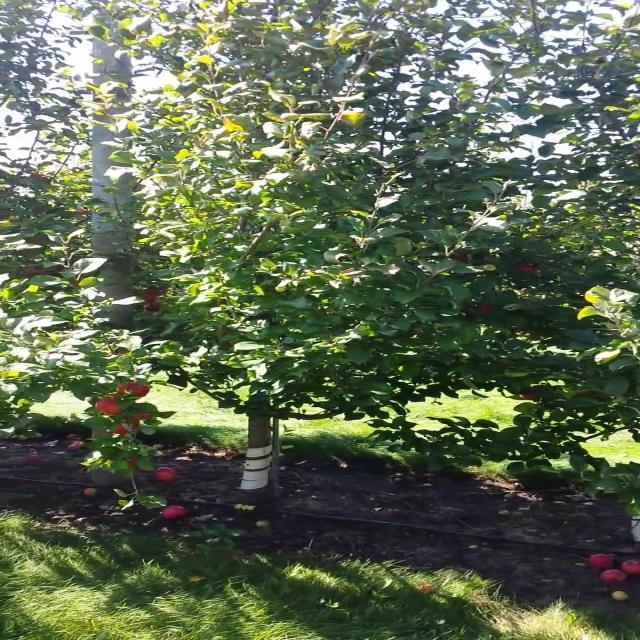apple: (118, 381, 151, 398), (96, 396, 122, 414), (113, 421, 139, 434), (142, 286, 160, 302), (518, 388, 540, 400), (513, 264, 538, 274), (131, 412, 153, 421), (142, 302, 160, 311), (451, 252, 467, 262), (478, 304, 493, 312), (127, 459, 136, 467)
